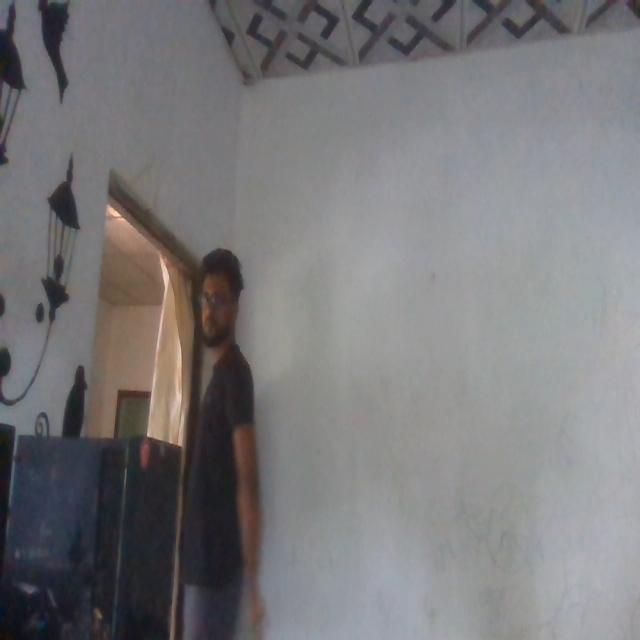Person: (188, 247, 262, 640)
